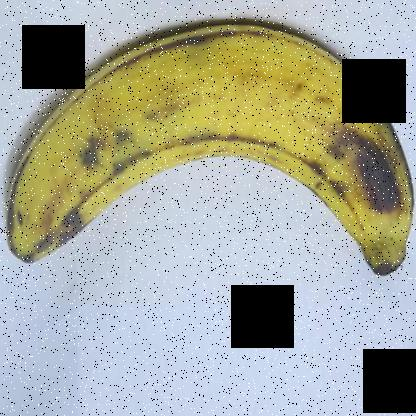ripe: (1, 3, 415, 278)
